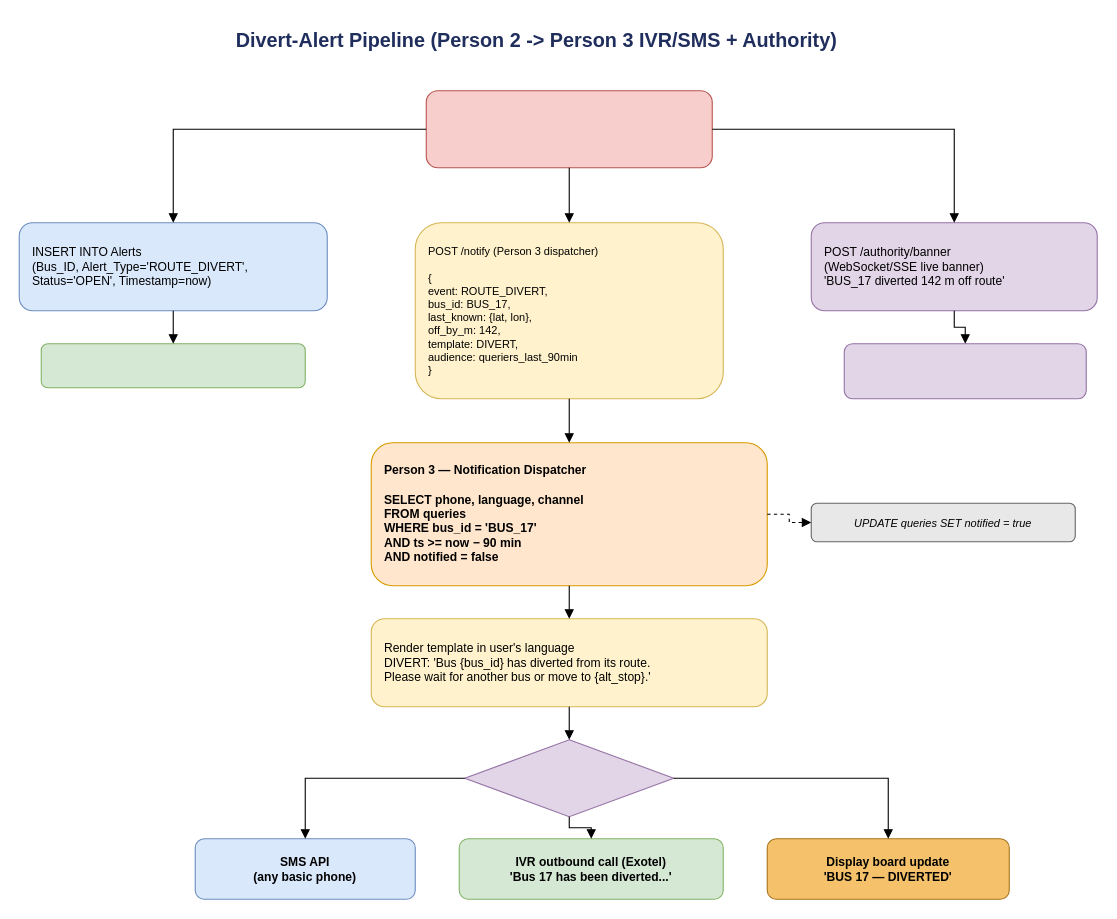
The diagram is 1117 pixels wide and 919 high, and some of its shapes have lost their labels. The shapes that lost their labels are listed below. From the top down, each one's centre as x and y in pixels, then its label:
the point at 568,129: ETA Engine (Person 2) OFF_ROUTE fired (K = 3 consecutive packets δ > W)
the point at 172,365: DB · Alerts table (Person 1)
the point at 964,371: Authority Dashboard (banner pops up, dispatcher ACKs)
the point at 569,778: Fan-out per querier
